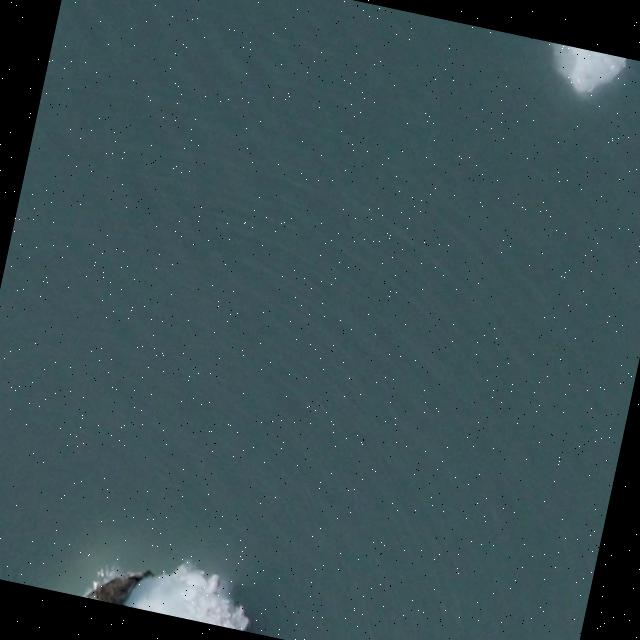seal: (82, 551, 158, 621)
